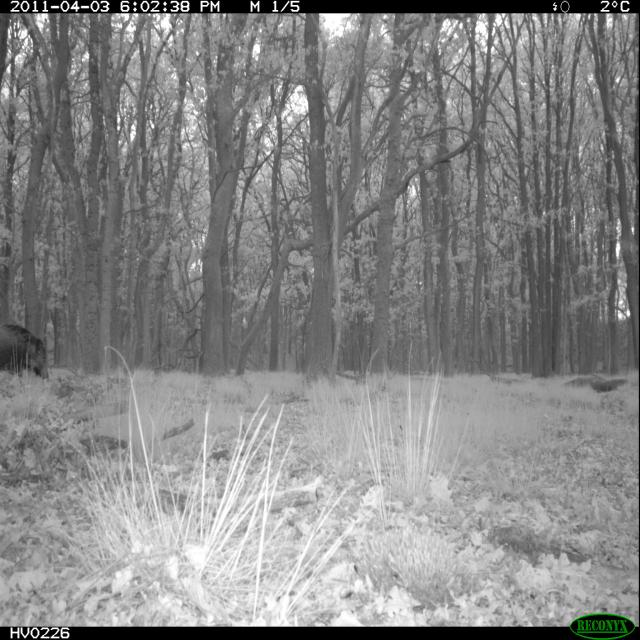boar: (0, 286, 59, 395)
